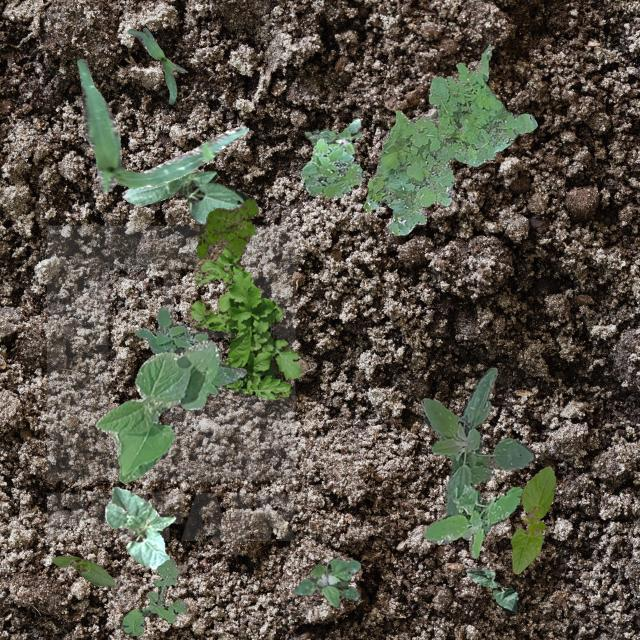crop: (76, 57, 248, 192), (94, 338, 218, 482), (120, 170, 250, 223), (104, 486, 174, 568), (126, 26, 186, 104), (510, 466, 554, 572), (464, 566, 518, 612), (50, 554, 114, 586)
weed: (362, 44, 536, 234), (186, 244, 306, 398), (420, 366, 532, 516), (134, 306, 246, 394), (422, 484, 522, 556), (120, 558, 187, 634), (300, 136, 364, 198), (195, 198, 258, 258), (292, 556, 360, 606), (304, 118, 361, 152)
